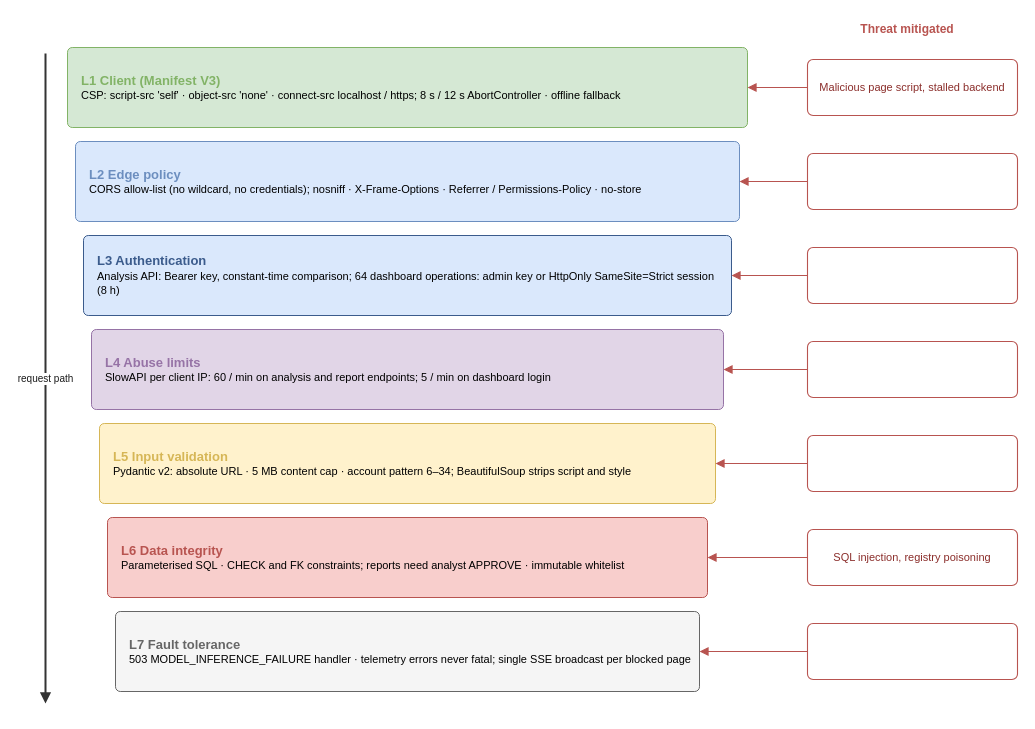
This 1035x729 diagram has some shape labels left out. Here are the shapes that lost their labels. From the top down, the centre of each, then its label:
At [912,181]: "Cross-origin abuse, clickjacking, caching".
At [912,275]: "Forged requests, SOC takeover".
At [912,369]: "Flooding, online key guessing".
At [912,463]: "Malformed or oversized input".
At [912,651]: "Model fault, partial failure".
